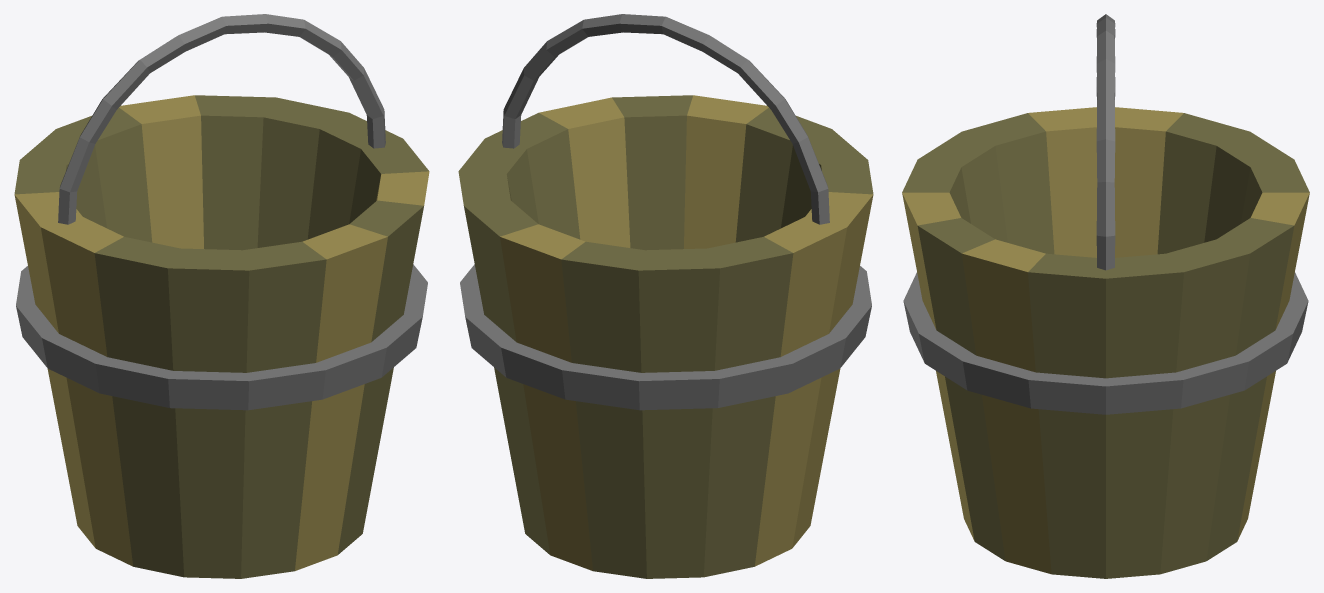
Rendered from Bucket.fbx.
3 renders of one model, left to right at view 1: azimuth 30°, elevation 25°; view 2: azimuth 150°, elevation 25°; view 3: azimuth 270°, elevation 25°, orthographic. The views are drawn at different scales.
Visible parts, largest first — view 1: Cylinder; view 2: Cylinder; view 3: Cylinder.
Part boxes in pixels (bbox=[...]): Cylinder: bbox=[14, 14, 429, 578]; Cylinder: bbox=[458, 14, 873, 578]; Cylinder: bbox=[902, 14, 1309, 578].
Size of the model in its own units: 44.56 by 58.87 by 44.56.
